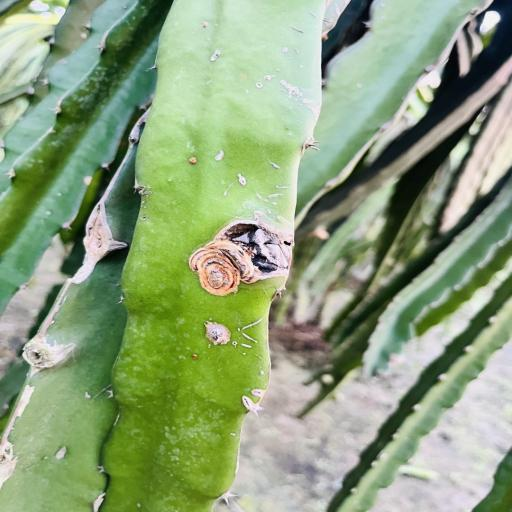stemcanker: (188, 17, 225, 68), (236, 66, 280, 106), (136, 190, 168, 227), (279, 41, 310, 72), (138, 187, 164, 223), (173, 144, 204, 173), (274, 39, 309, 61), (180, 347, 212, 369), (250, 71, 278, 94), (198, 19, 220, 39), (210, 44, 226, 70), (182, 152, 202, 172), (183, 351, 206, 366), (229, 337, 245, 358), (276, 124, 294, 140), (279, 122, 293, 140), (161, 176, 182, 187), (131, 499, 148, 512), (257, 367, 269, 382), (134, 500, 148, 510), (230, 339, 244, 349), (165, 177, 178, 186), (227, 432, 240, 440), (238, 73, 248, 81), (241, 88, 251, 95), (208, 342, 214, 353), (258, 369, 267, 376), (40, 455, 50, 461), (271, 200, 280, 206), (167, 177, 174, 184), (134, 502, 142, 508), (258, 370, 266, 376), (166, 177, 174, 183), (298, 64, 305, 68), (241, 352, 247, 356)
